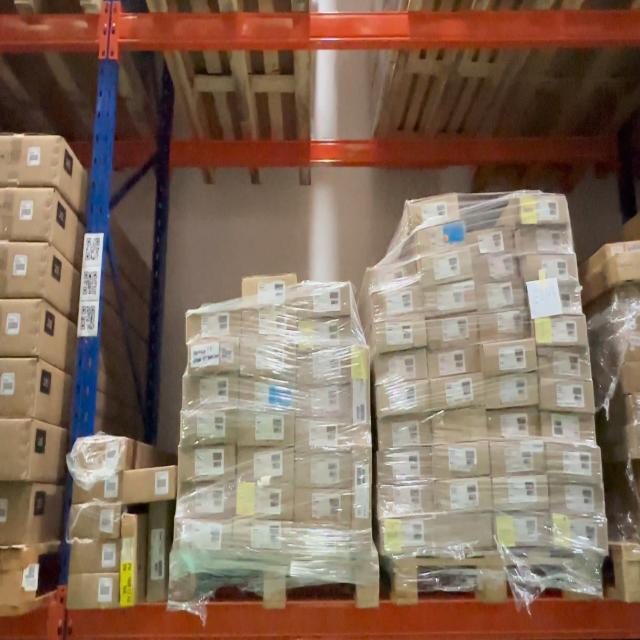box: (0, 136, 59, 184), (0, 190, 53, 240), (0, 245, 46, 297), (175, 521, 233, 558), (352, 446, 372, 551), (236, 481, 292, 518), (0, 300, 39, 353), (148, 501, 168, 604), (295, 452, 352, 488), (234, 523, 290, 559), (294, 489, 350, 525), (237, 411, 294, 446), (182, 375, 239, 410), (179, 483, 236, 518), (433, 441, 488, 477), (0, 361, 36, 416), (554, 520, 608, 556), (494, 477, 549, 512), (377, 383, 432, 418), (435, 516, 493, 549), (180, 448, 236, 482), (296, 351, 350, 386), (241, 379, 296, 413), (496, 515, 551, 549), (435, 480, 490, 514), (236, 448, 294, 480), (492, 442, 545, 477), (241, 343, 294, 378), (552, 484, 606, 518), (183, 411, 237, 445), (186, 338, 240, 372), (295, 418, 348, 452), (297, 282, 350, 316), (378, 484, 434, 516), (352, 348, 371, 442), (482, 342, 536, 375), (419, 252, 473, 285), (1, 484, 30, 545), (382, 522, 434, 556), (242, 274, 294, 308), (374, 318, 426, 352), (378, 449, 433, 481), (374, 352, 427, 385), (76, 439, 127, 473), (543, 414, 597, 446), (485, 376, 539, 408), (427, 313, 479, 346), (542, 381, 594, 414), (546, 447, 598, 480), (540, 349, 592, 382), (69, 574, 118, 609), (292, 527, 351, 556), (434, 411, 487, 443), (432, 378, 485, 410), (409, 196, 462, 228), (535, 316, 588, 348), (124, 469, 175, 502), (296, 387, 350, 418), (296, 316, 350, 347), (71, 506, 120, 540), (424, 282, 476, 314), (530, 284, 582, 316), (123, 511, 140, 608), (379, 417, 432, 448), (189, 308, 242, 339), (488, 410, 541, 441), (1, 423, 29, 480), (415, 225, 468, 255), (71, 541, 119, 574), (518, 194, 568, 225), (430, 348, 481, 378), (373, 289, 422, 320), (524, 254, 578, 282), (479, 311, 531, 340), (243, 309, 293, 339), (74, 474, 122, 504), (520, 226, 570, 254), (476, 282, 524, 311), (372, 262, 420, 291), (469, 227, 515, 256), (473, 254, 517, 282), (624, 542, 640, 601), (608, 255, 640, 282), (617, 286, 640, 310), (630, 397, 639, 458), (605, 241, 639, 256), (616, 312, 640, 333), (620, 329, 640, 351), (624, 366, 640, 392)
